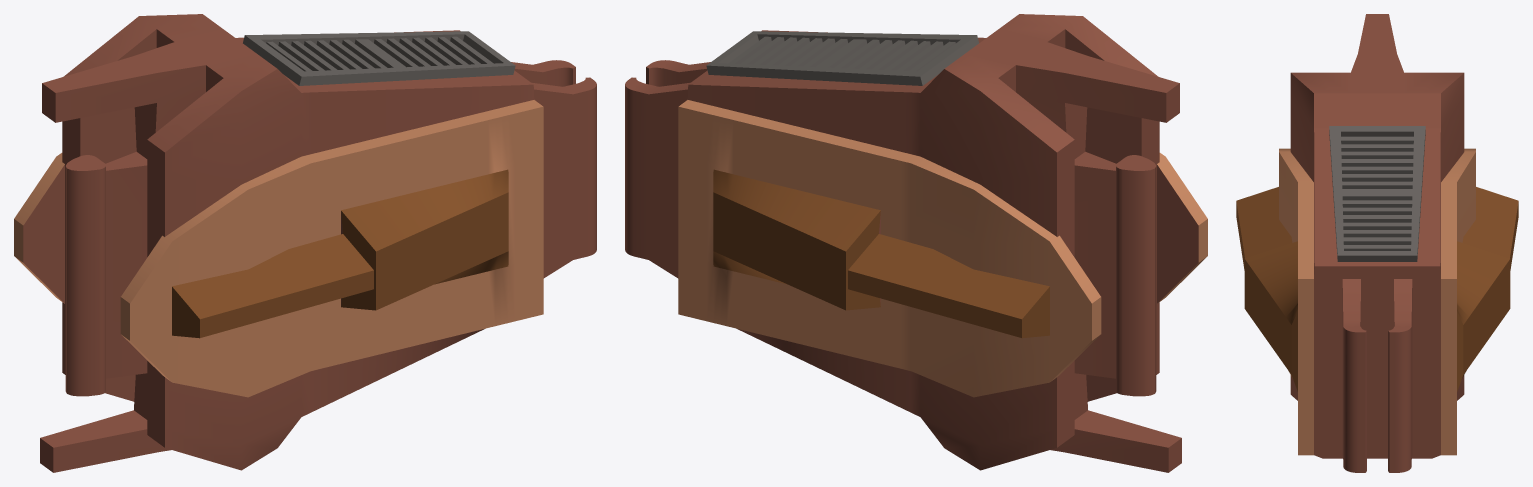
The model's file is Onderdeel Staart Nummer 2.fbx.
3 renders of one model, left to right at view 1: azimuth 30°, elevation 25°; view 2: azimuth 150°, elevation 25°; view 3: azimuth 270°, elevation 25°, orthographic. The views are drawn at different scales.
Parts seen in each view (by area): view 1: Onderdeel staart.012; view 2: Onderdeel staart.012; view 3: Onderdeel staart.012.
Part boxes in pixels (bbox=[...]): Onderdeel staart.012: bbox=[14, 14, 596, 472]; Onderdeel staart.012: bbox=[625, 14, 1207, 472]; Onderdeel staart.012: bbox=[1236, 14, 1518, 472].
Size of the model in its own units: 857 by 579 by 460.
